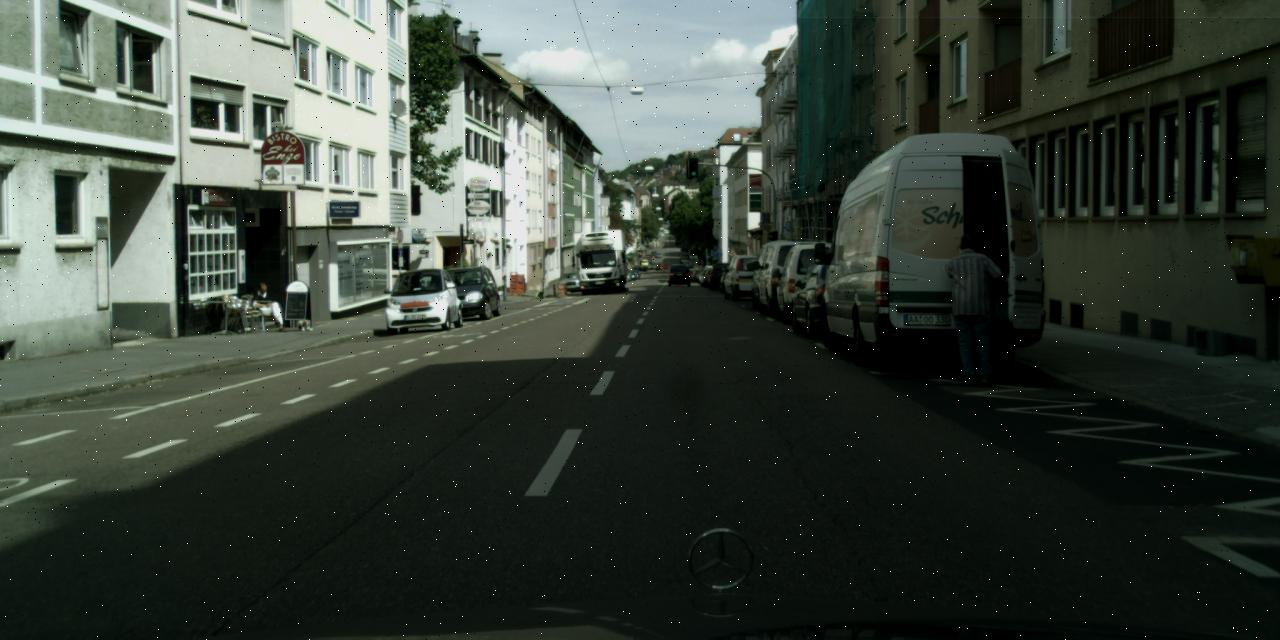ped: (942, 233, 1004, 383)
